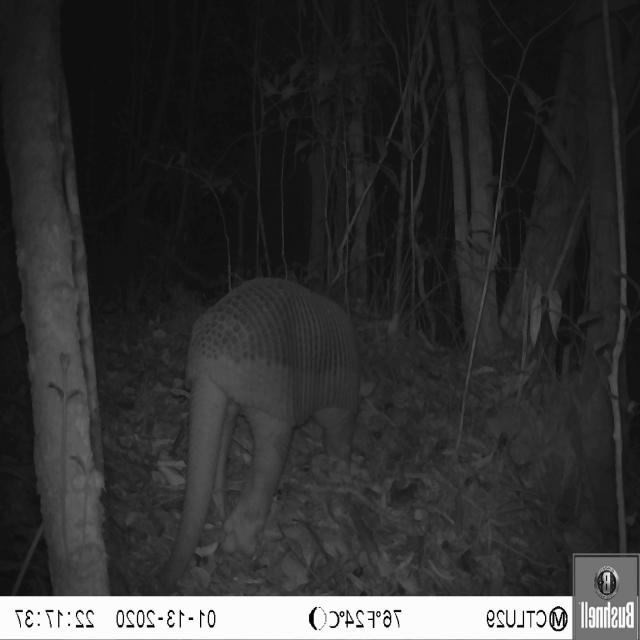Armadillo: (162, 258, 375, 568)
